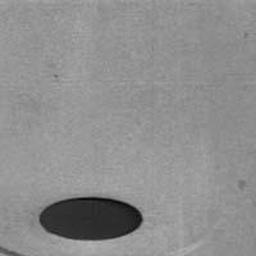Punching: (37, 196, 145, 243)
